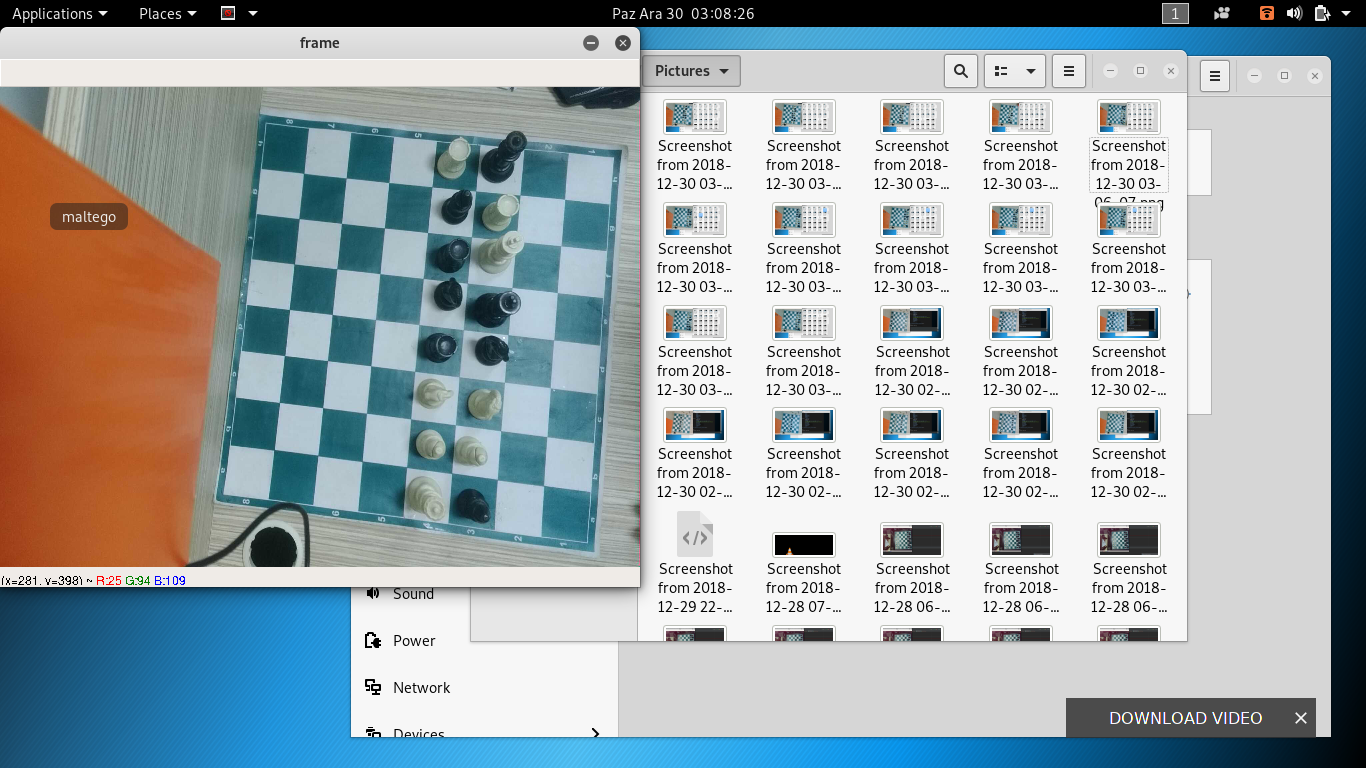BeyazAt: (467, 387, 502, 422), (417, 379, 455, 410)
BeyazFil: (415, 426, 450, 463), (454, 434, 491, 467)
BeyazKale: (481, 191, 520, 231), (436, 139, 473, 177)
BeyazSah: (477, 229, 526, 273)
SiyahAt: (474, 334, 510, 367), (433, 278, 464, 313)
SiyahFil: (437, 187, 474, 224), (456, 488, 492, 525)
SiyahKale: (424, 332, 460, 364), (436, 238, 469, 270)
SiyahSah: (475, 290, 522, 327)
SiyahVezir: (480, 130, 527, 184), (408, 474, 448, 520)
